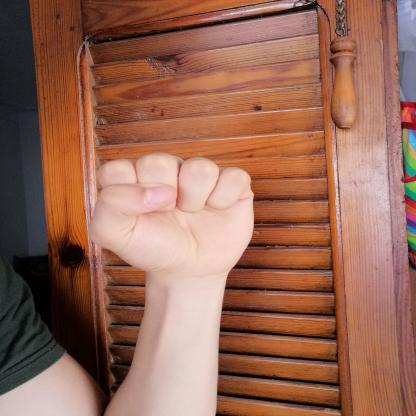SAD: (68, 144, 281, 291)
